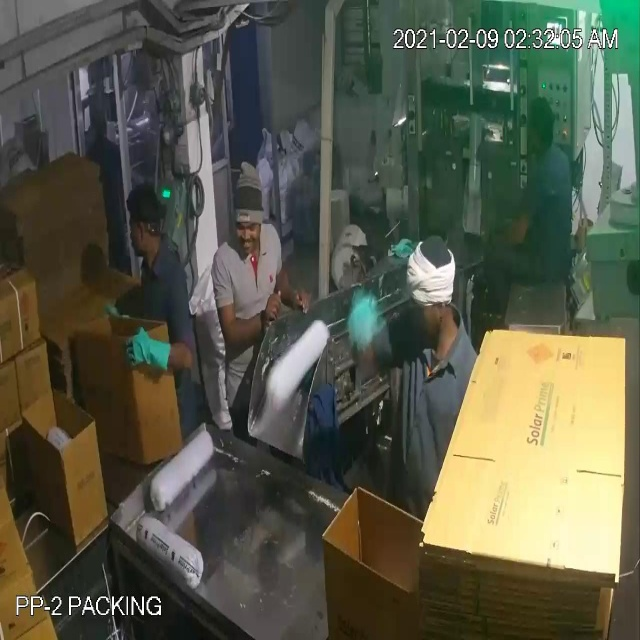Guantes: (338, 282, 390, 367), (118, 324, 177, 388)
Sin_guantes: (214, 284, 294, 348), (264, 260, 313, 321), (488, 210, 535, 264)
